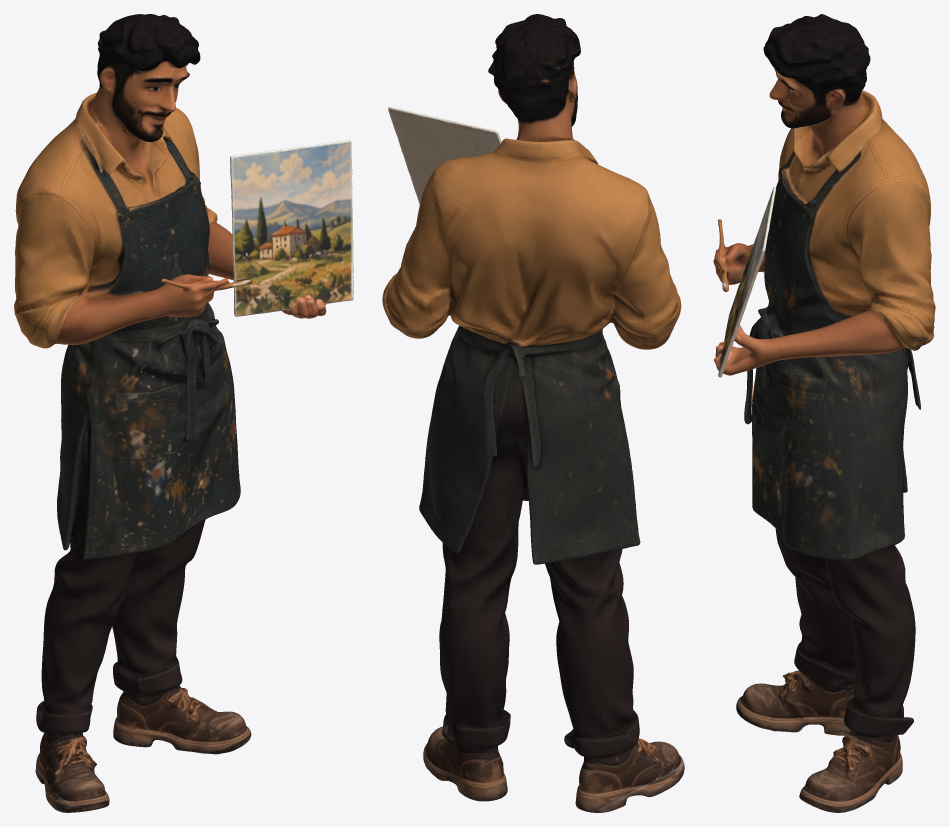
Rendered from painter_pose2.glb.
3 renders of one model, left to right at view 1: azimuth 30°, elevation 25°; view 2: azimuth 150°, elevation 25°; view 3: azimuth 270°, elevation 25°, orthographic.
Size of the model in its own units: 0.8198 by 1.9 by 0.5131.
Materials: 1 (1 with a texture image).
